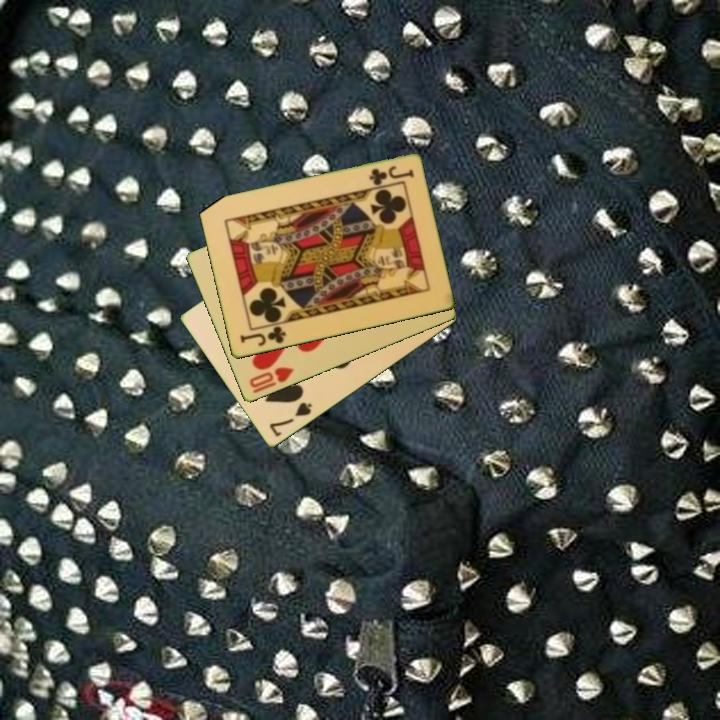10h: (245, 364, 297, 397)
7s: (266, 399, 315, 440)
Jc: (236, 323, 289, 350), (365, 163, 417, 188)
